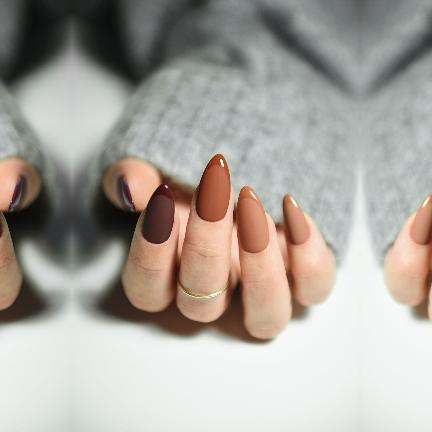Nail: (195, 154, 230, 222), (236, 186, 268, 253), (141, 183, 174, 244), (282, 194, 309, 244), (409, 194, 432, 244), (118, 177, 134, 212), (8, 177, 24, 212)
